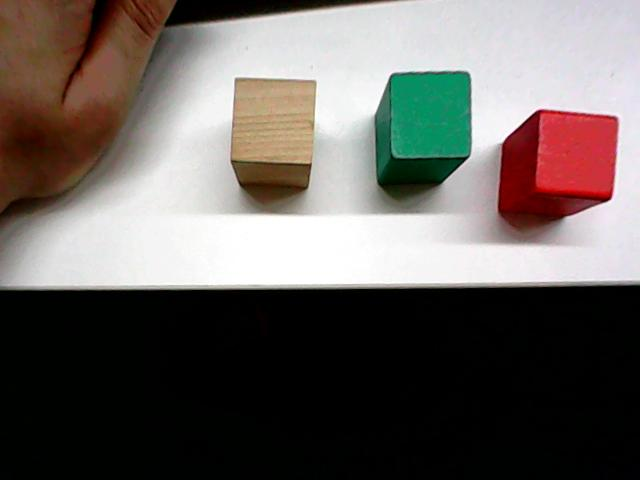green_box: (371, 66, 474, 190)
raw_box: (227, 73, 318, 193)
red_box: (495, 103, 621, 222)
